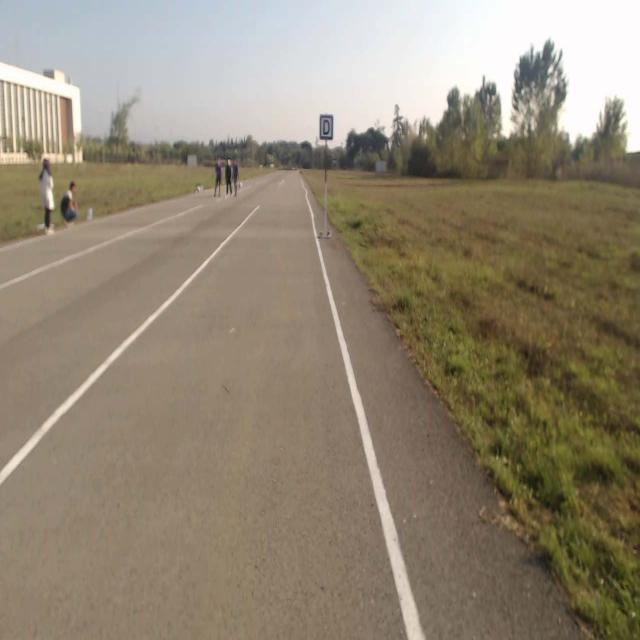durak: (320, 115, 333, 140)
